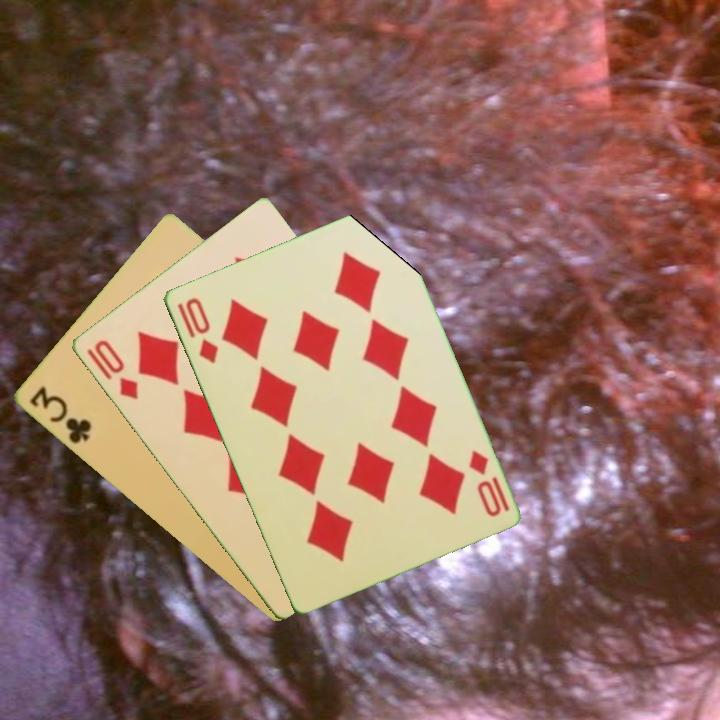10d: (464, 446, 512, 520), (173, 293, 221, 366), (90, 336, 141, 403)
3c: (25, 382, 94, 447)
